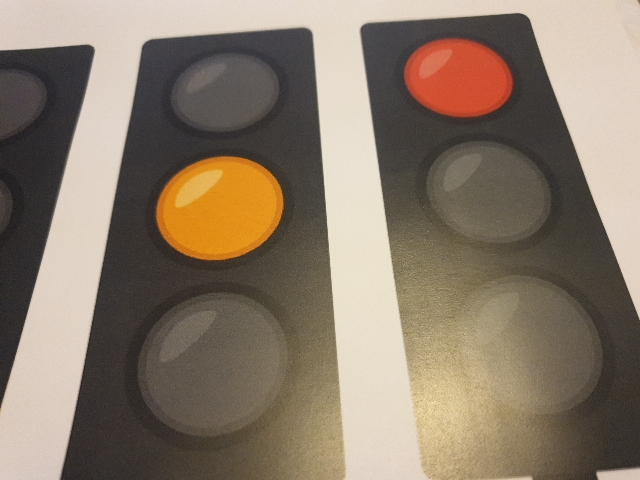amber: (159, 49, 307, 456)
red: (379, 34, 597, 450)
